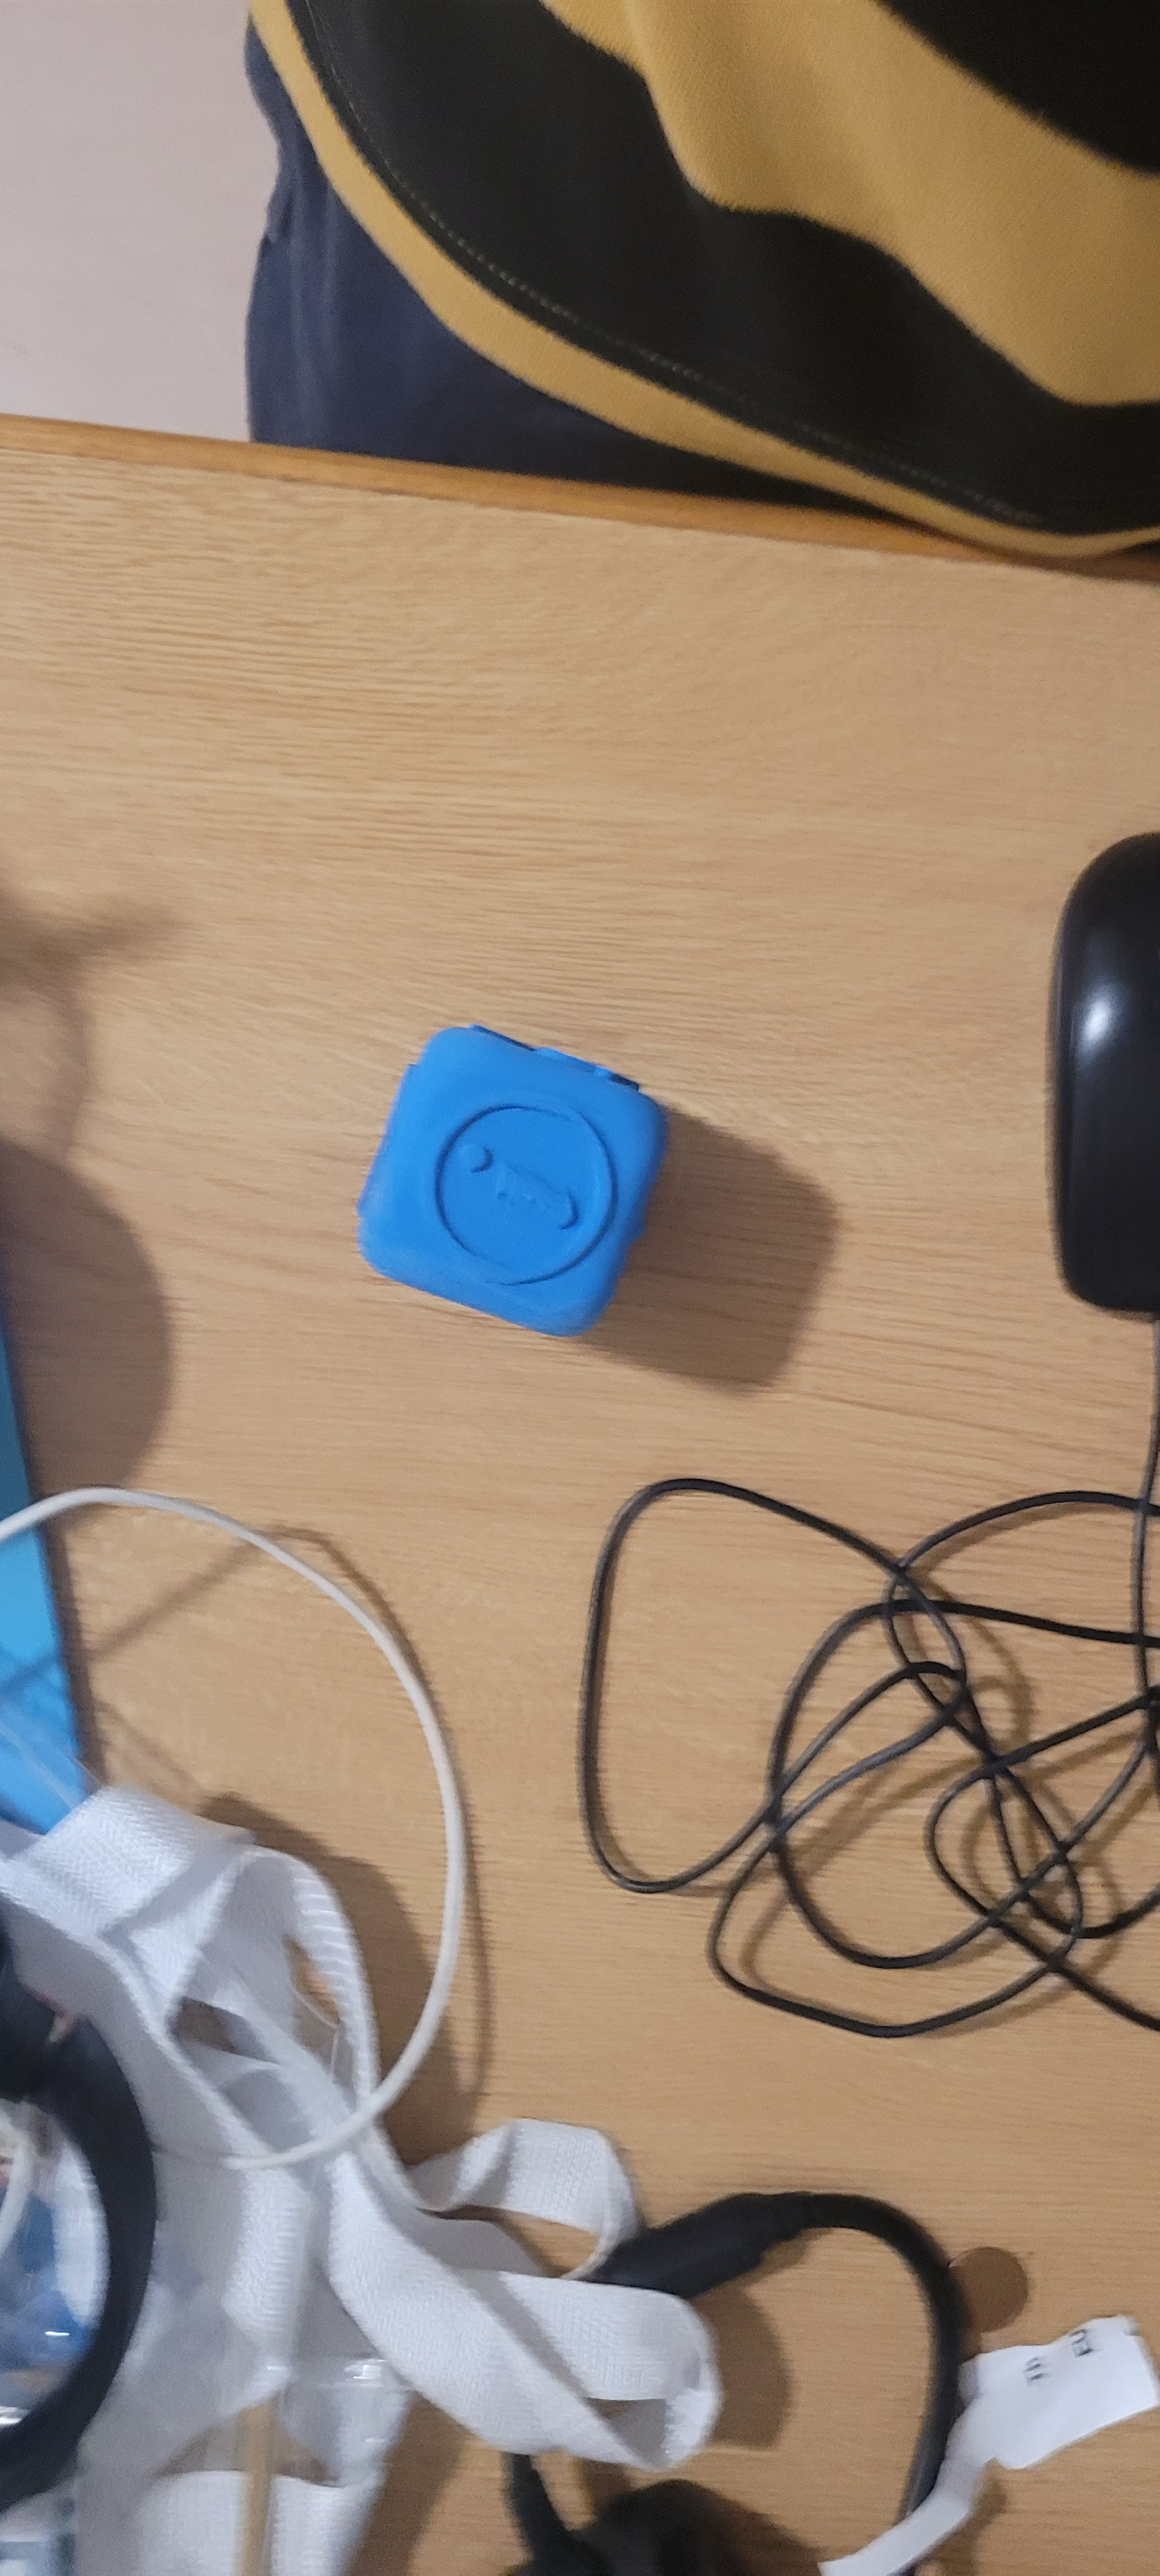Info: (407, 1056, 619, 1337)
